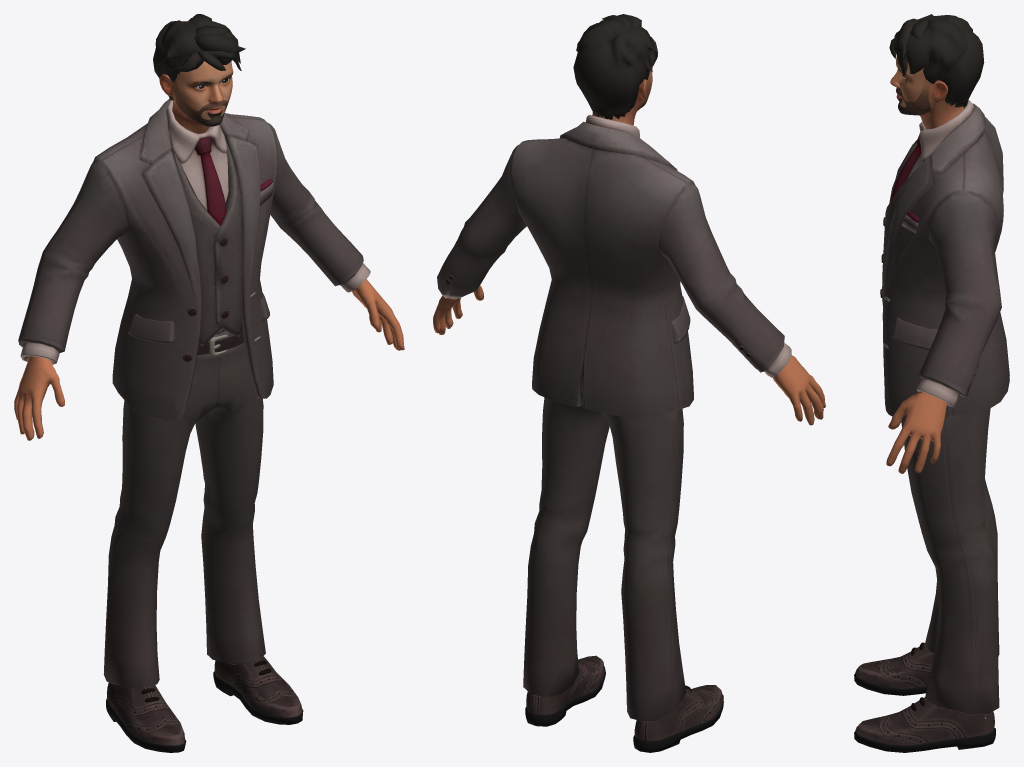
Rendered from ShihabAvatar.glb.
3 renders of one model, left to right at view 1: azimuth 30°, elevation 25°; view 2: azimuth 150°, elevation 25°; view 3: azimuth 270°, elevation 25°, orthographic.
Visible parts, largest first — view 1: Wolf3D_Outfit_Top, Wolf3D_Outfit_Bottom, Wolf3D_Outfit_Footwear, Wolf3D_Hair, Wolf3D_Body, Wolf3D_Head; view 2: Wolf3D_Outfit_Top, Wolf3D_Outfit_Bottom, Wolf3D_Hair, Wolf3D_Outfit_Footwear, Wolf3D_Body; view 3: Wolf3D_Outfit_Top, Wolf3D_Outfit_Bottom, Wolf3D_Outfit_Footwear, Wolf3D_Hair, Wolf3D_Body, Wolf3D_Head.
Boxes of the visible parts, x1,y1,x2,y2 form: Wolf3D_Outfit_Top: [18, 99, 370, 420]; Wolf3D_Outfit_Bottom: [103, 330, 265, 688]; Wolf3D_Outfit_Footwear: [106, 655, 303, 752]; Wolf3D_Hair: [153, 14, 245, 100]; Wolf3D_Body: [14, 279, 404, 440]; Wolf3D_Head: [159, 61, 233, 133]; Wolf3D_Outfit_Top: [437, 114, 791, 417]; Wolf3D_Outfit_Bottom: [523, 397, 686, 722]; Wolf3D_Hair: [573, 14, 657, 119]; Wolf3D_Outfit_Footwear: [525, 655, 723, 752]; Wolf3D_Body: [433, 285, 825, 724]; Wolf3D_Outfit_Top: [880, 100, 1009, 419]; Wolf3D_Outfit_Bottom: [901, 408, 999, 714]; Wolf3D_Outfit_Footwear: [854, 642, 995, 752]; Wolf3D_Hair: [889, 14, 984, 107]; Wolf3D_Body: [886, 391, 986, 718]; Wolf3D_Head: [890, 56, 964, 129].
Size of the model in its own units: 1.06 by 1.86 by 0.3773.
Materials: 8 (8 with a texture image).
